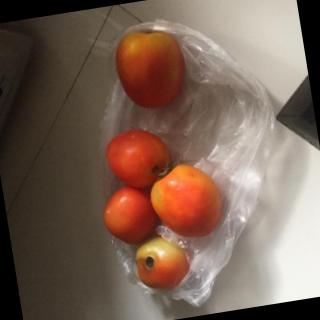Tomat: (141, 157, 236, 254), (107, 24, 202, 116), (92, 123, 189, 197), (81, 180, 165, 256), (119, 230, 203, 300)
